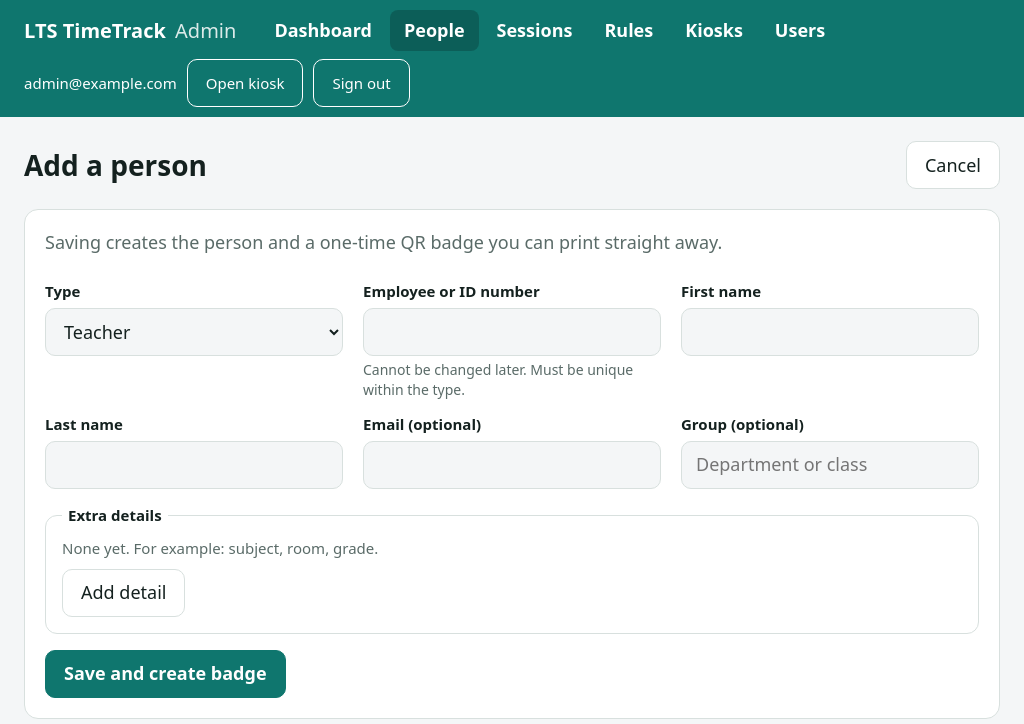
Test: add person › explains a 409 response and keeps what was typed
In the field labelled "Employee or ID number": {"x": 512, "y": 332} [363,308,661,356], type " T900 "
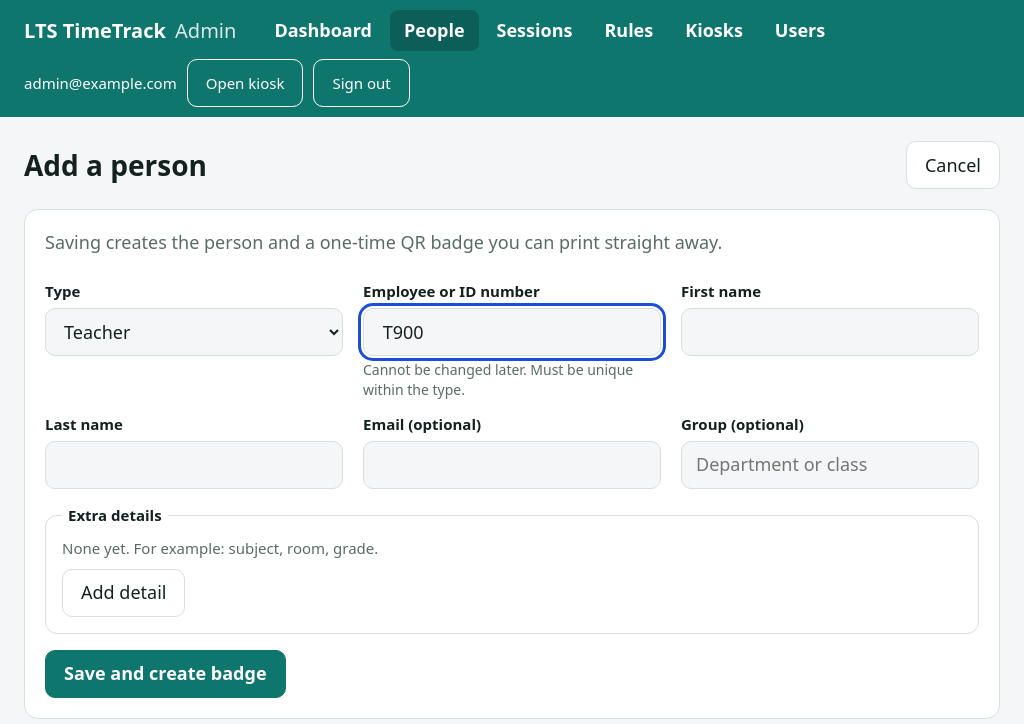
In the field labelled "First name": {"x": 830, "y": 332} [681,308,979,356], type "Maria"
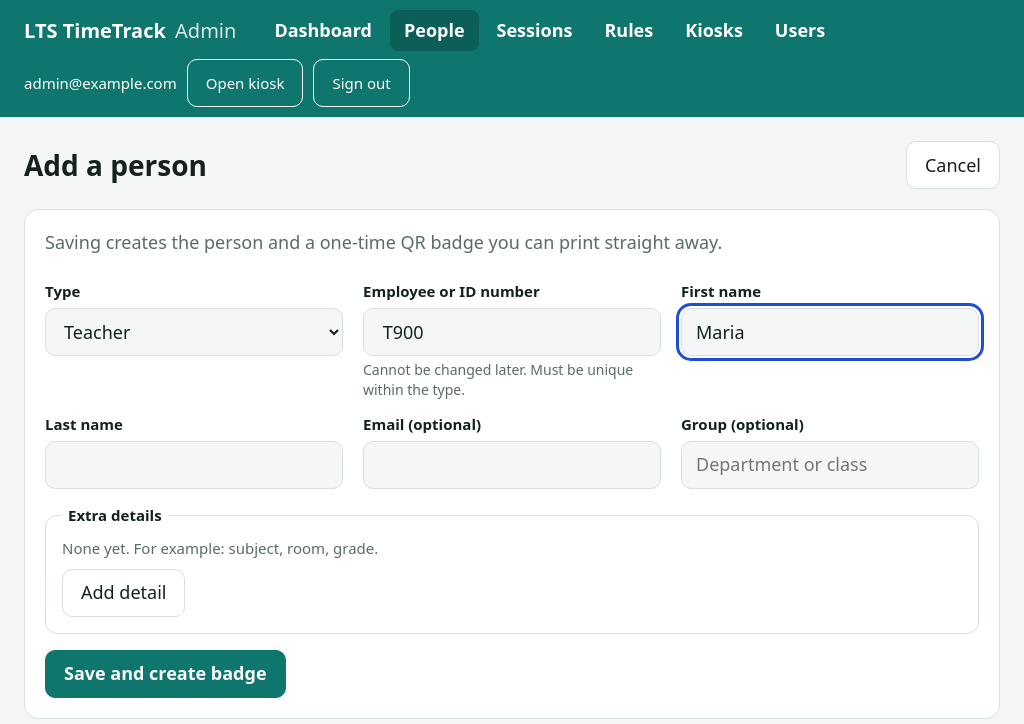
In the field labelled "Last name": {"x": 194, "y": 465} [45,441,343,489], type "Lopez"
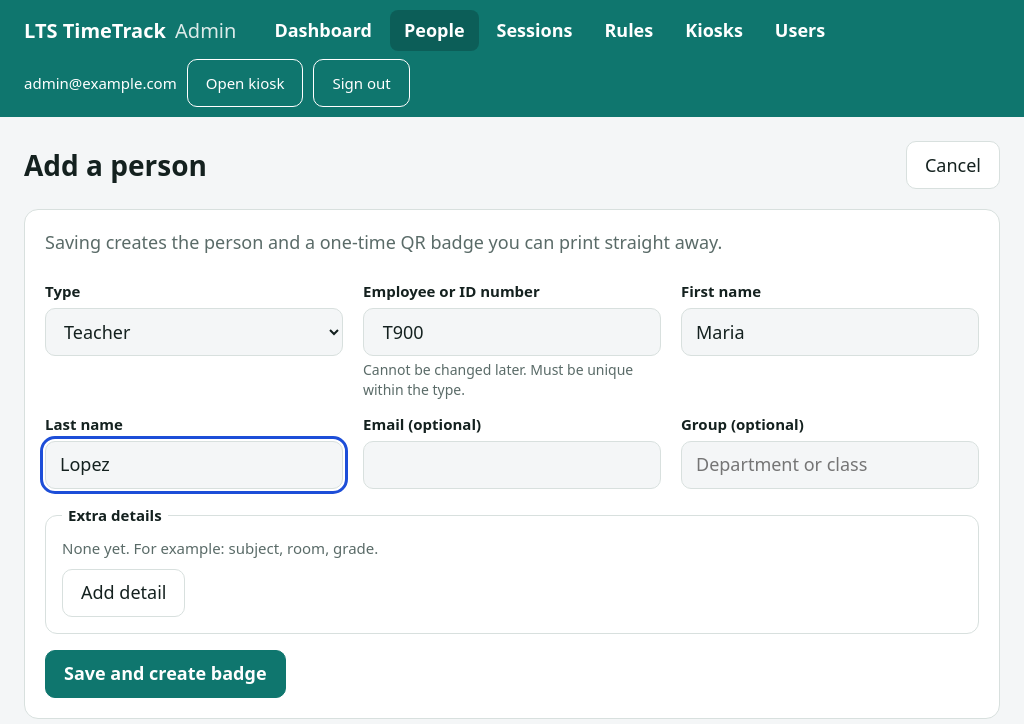
Click the button "Save and create badge": {"x": 165, "y": 674} [45,650,286,698]
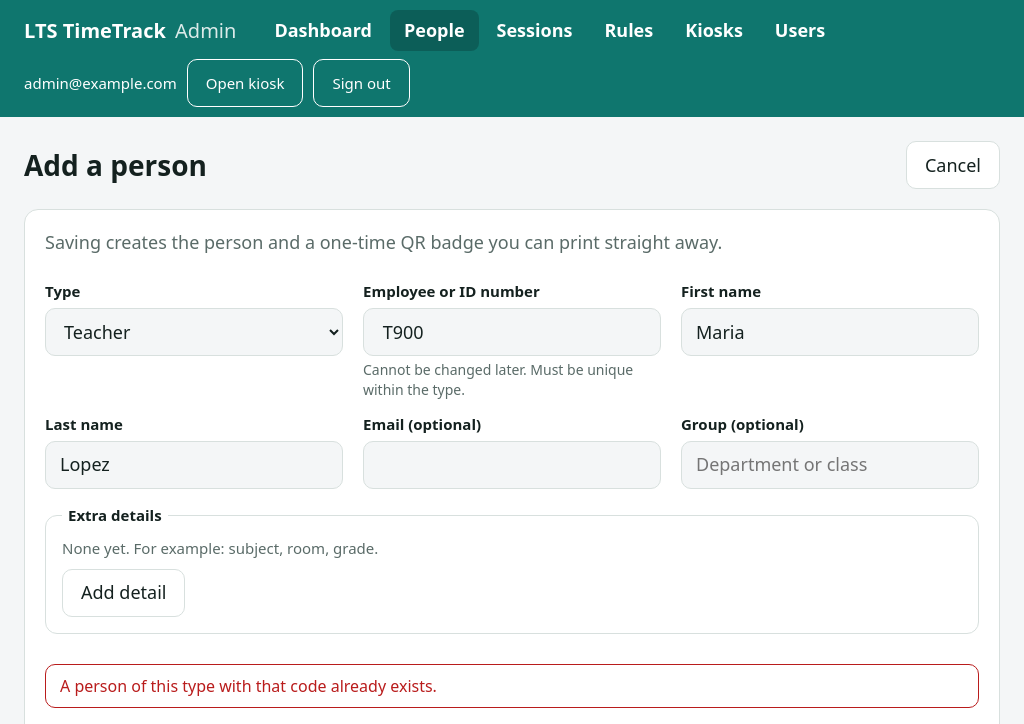
Expected: the message shows "already exists", [60,675,437,697]
